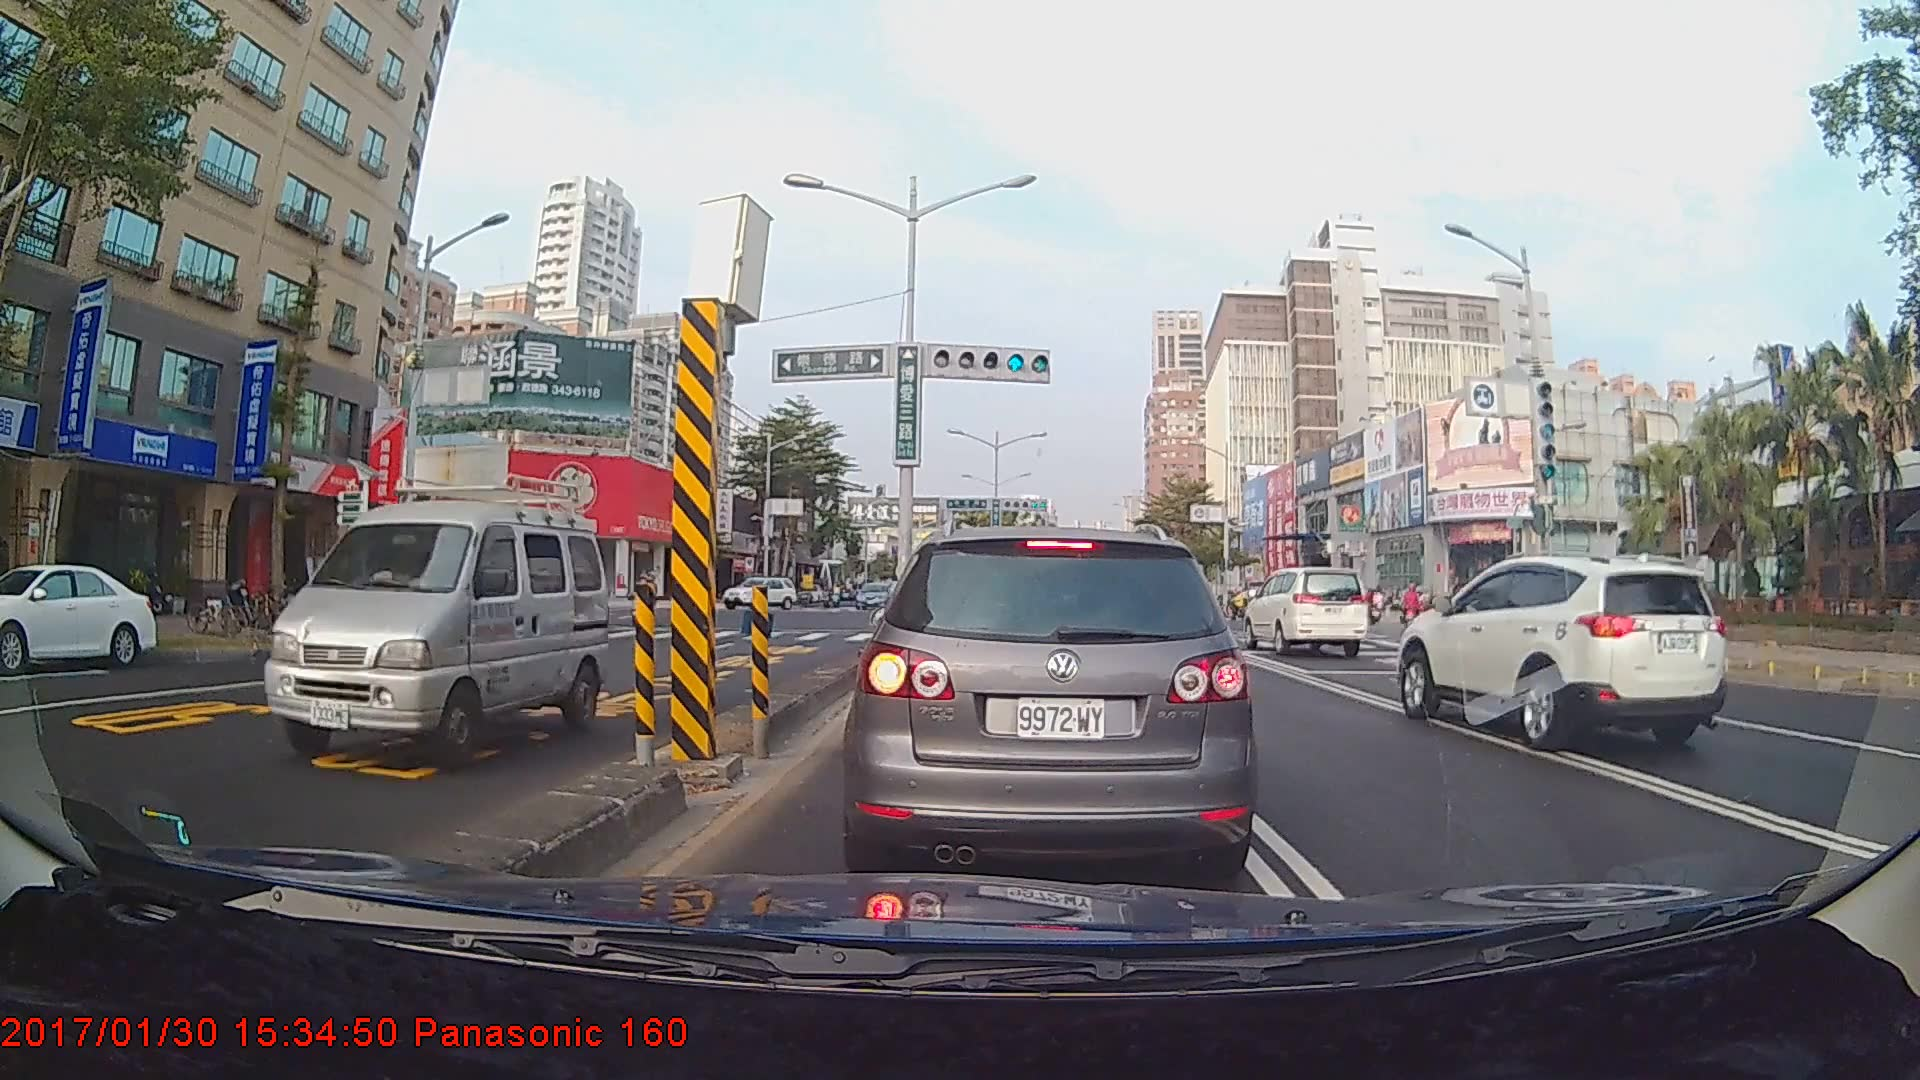rider: (562, 568, 614, 625), (1397, 580, 1421, 638)
vehicle: (857, 522, 1249, 873), (262, 472, 604, 768), (1394, 549, 1729, 748), (0, 561, 157, 671), (1239, 564, 1370, 658), (855, 580, 895, 611)
